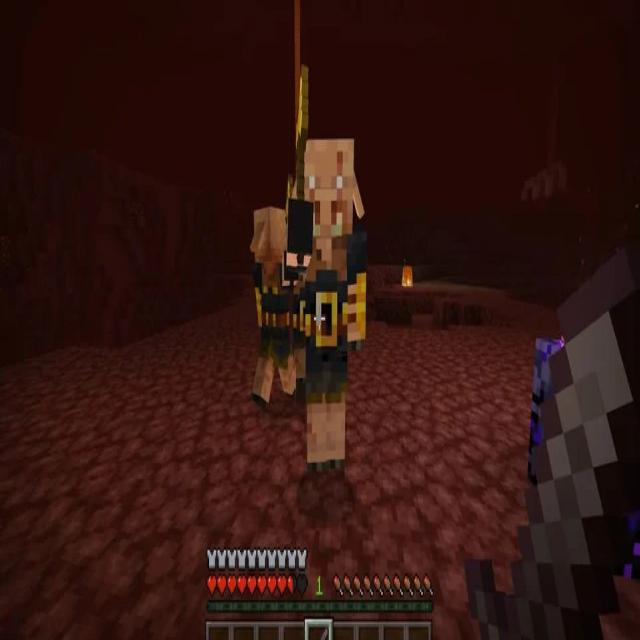Piglin: (287, 62, 366, 477), (248, 208, 298, 407)
